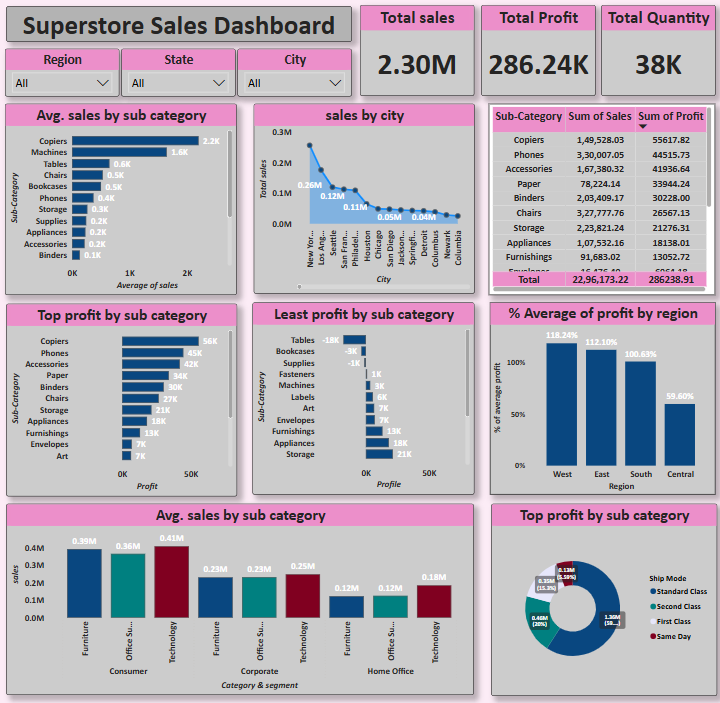

Layout of this report page (visuals, bound fields, positions):
{"tool":"powerbi","page":{"name":"Page 1","canvas":[1280,1250],"ordinal":0},"visuals":[{"type":"textbox","box":[10,10,614.8,63],"z":0},{"type":"slicer","title":"Region","fields":{"Values":["SampleSuperstore.Region"]},"box":[9.6,86.4,203.1,85.1],"z":1000},{"type":"slicer","title":"State","fields":{"Values":["SampleSuperstore.State"]},"box":[215.4,86.4,203.1,85.1],"z":2000},{"type":"slicer","title":"City","fields":{"Values":["SampleSuperstore.City"]},"box":[421.3,86.4,203.1,85.1],"z":3000},{"type":"card","title":"Total sales","fields":{"Values":["Sum(SampleSuperstore.Sales)"]},"box":[639.5,9.6,203.1,161.9],"z":4000},{"type":"card","title":"Total Profit","fields":{"Values":["Sum(SampleSuperstore.Profit)"]},"box":[854.9,9.6,203.1,161.9],"z":5000},{"type":"card","title":"Total Quantity","fields":{"Values":["Sum(SampleSuperstore.Quantity)"]},"box":[1069,9.6,203.1,161.9],"z":6000},{"type":"clusteredBarChart","title":"Avg. sales by sub category","fields":{"Category":["SampleSuperstore.Sub-Category"],"Y":["Avg(SampleSuperstore.Sales)"]},"box":[9.6,185.2,411.7,340.3],"z":7000},{"type":"tableEx","fields":{"Values":["SampleSuperstore.Sub-Category","Sum(SampleSuperstore.Sales)","Sum(SampleSuperstore.Profit)"]},"box":[870,185.2,402.1,340.3],"z":8000},{"type":"stackedAreaChart","title":"sales by city","fields":{"Category":["SampleSuperstore.City"],"Y":["Sum(SampleSuperstore.Sales)"]},"box":[450.4,185.5,393,337.8],"z":9000},{"type":"clusteredBarChart","title":"Top profit by sub category","fields":{"Category":["SampleSuperstore.Sub-Category"],"Y":["Sum(SampleSuperstore.Profit)"]},"box":[11,540.9,410.7,342.2],"z":10000},{"type":"clusteredBarChart","title":"Least profit by sub category","fields":{"Category":["SampleSuperstore.Sub-Category"],"Y":["Sum(SampleSuperstore.Profit)"]},"box":[449.4,537.6,394.5,341.2],"z":11000},{"type":"columnChart","title":"% Average of profit by region","fields":{"Category":["SampleSuperstore.Region"],"Y":["Sum(SampleSuperstore.Profit)"]},"box":[872.2,537.6,401.1,341.2],"z":12000},{"type":"columnChart","title":"Avg. sales by sub category","fields":{"Category":["SampleSuperstore.Segment","SampleSuperstore.Category"],"Y":["Sum(SampleSuperstore.Sales)"]},"box":[11.4,895.7,831.4,340],"z":13000},{"type":"donutChart","title":"Top profit by sub category","fields":{"Category":["SampleSuperstore.Ship Mode","SampleSuperstore.Quantity"],"Y":["Sum(SampleSuperstore.Sales)"]},"box":[872.9,895.7,401.4,341.4],"z":14001}]}

Visuals, with their boxes in screenshot pixels (x1, y1, x2, y2), scaled from the page's 1280x1250 canvas onto the 720x703 screenshot:
textbox: <box>6,6,351,41</box>
"Region" slicer: <box>5,49,120,96</box>
"State" slicer: <box>121,49,235,96</box>
"City" slicer: <box>237,49,351,96</box>
"Total sales" card: <box>360,5,474,96</box>
"Total Profit" card: <box>481,5,595,96</box>
"Total Quantity" card: <box>601,5,716,96</box>
"Avg. sales by sub category" clusteredBarChart: <box>5,104,237,296</box>
tableEx - SampleSuperstore.Sub-Category x Sum(SampleSuperstore.Sales): <box>489,104,716,296</box>
"sales by city" stackedAreaChart: <box>253,104,474,294</box>
"Top profit by sub category" clusteredBarChart: <box>6,304,237,497</box>
"Least profit by sub category" clusteredBarChart: <box>253,302,475,494</box>
"% Average of profit by region" columnChart: <box>491,302,716,494</box>
"Avg. sales by sub category" columnChart: <box>6,504,474,695</box>
"Top profit by sub category" donutChart: <box>491,504,717,696</box>
